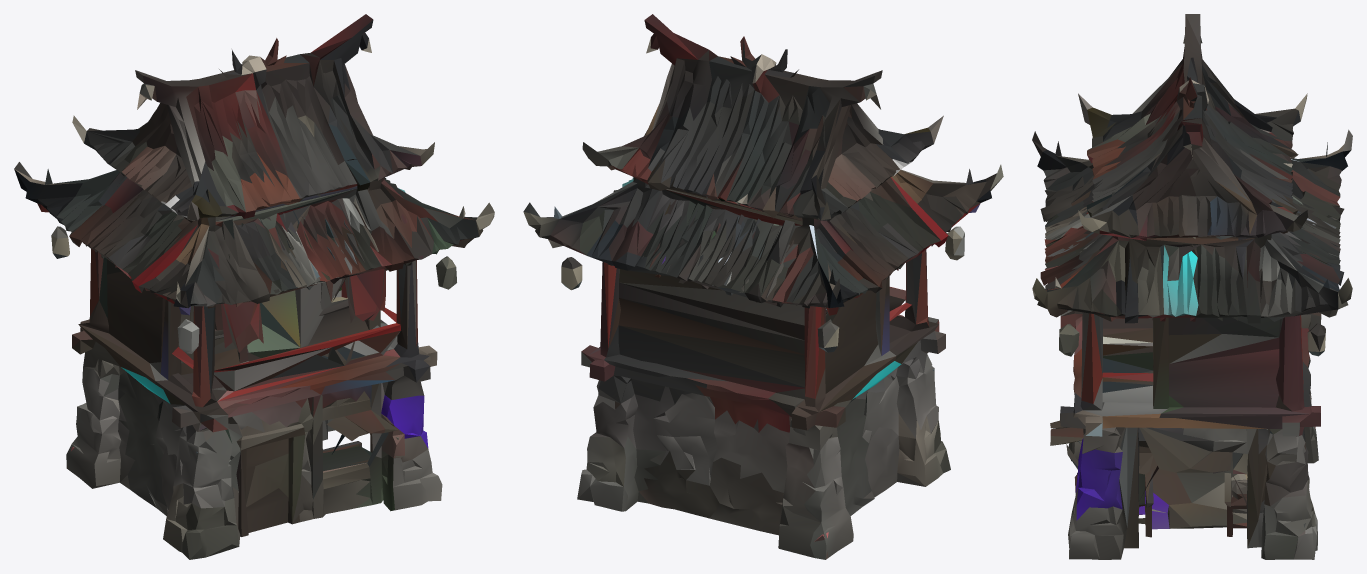
The model's file is house_two_a.glb.
The picture shows the model from 3 angles, left to right: view 1: azimuth 30°, elevation 25°; view 2: azimuth 150°, elevation 25°; view 3: azimuth 270°, elevation 25°; orthographic projection. The views are drawn at different scales.
Parts seen in each view (by area): view 1: house_two_a; view 2: house_two_a; view 3: house_two_a.
Part boxes in pixels (x1,y1,x2,y2): house_two_a: [14, 14, 494, 559]; house_two_a: [523, 14, 1003, 559]; house_two_a: [1032, 14, 1352, 559].
Bounding box in the file's own units: 7.9 × 10.5 × 7.04.
Materials: 1 (1 with a texture image).
